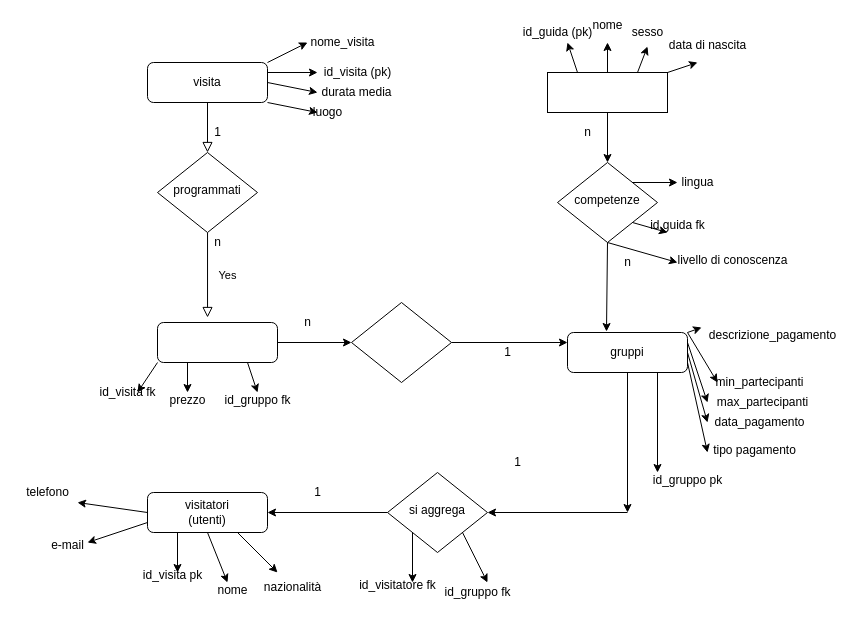
Some shapes in this 864 by 629 pixel diagram are drawn without their labels. Here are the shapes that lost their labels. From the top down, the centre of each, then its label:
the point at 607,92: guida
the point at 217,342: eventi
the point at 401,342: prenotati
